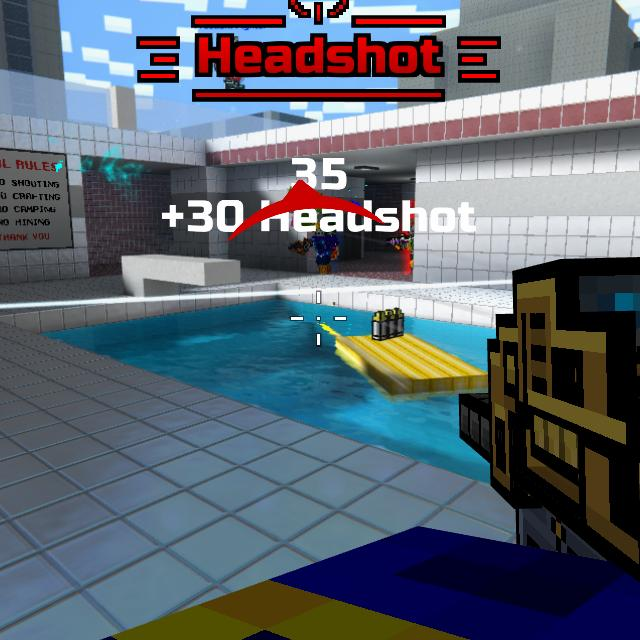Enemy: (406, 218, 416, 275)
